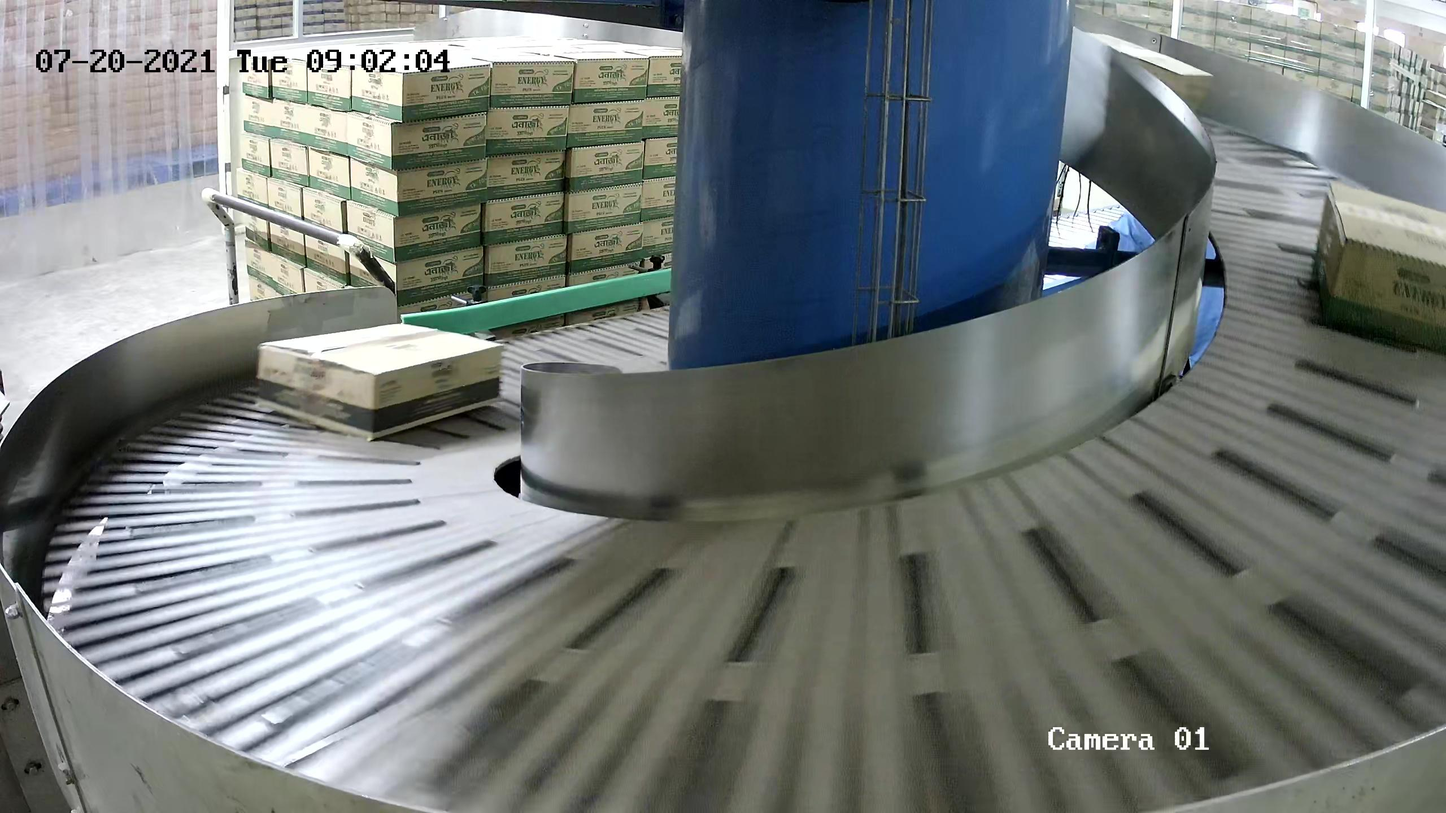Box: (255, 322, 504, 441), (1312, 180, 1446, 355)
